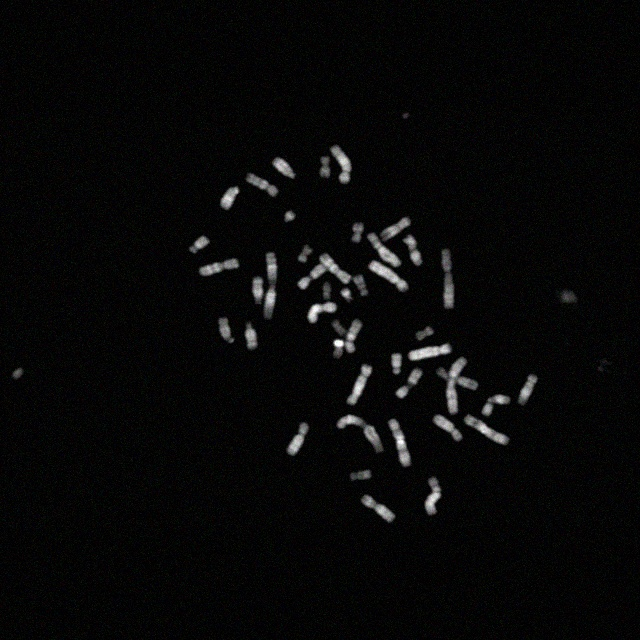chromosome: (336, 414, 384, 454), (463, 413, 509, 445), (368, 260, 408, 294), (388, 418, 412, 468), (447, 358, 468, 414), (368, 233, 402, 267), (296, 259, 334, 289), (346, 364, 372, 406), (360, 493, 396, 522), (264, 252, 278, 320), (438, 366, 478, 389), (330, 143, 352, 184), (320, 254, 350, 284), (432, 414, 462, 444), (246, 172, 278, 198), (396, 367, 422, 399), (408, 344, 452, 361), (287, 422, 309, 456), (381, 218, 411, 242), (198, 258, 238, 276), (442, 249, 454, 309), (424, 476, 442, 516), (482, 394, 510, 418), (517, 374, 537, 406), (308, 302, 337, 324), (272, 156, 296, 180), (404, 234, 422, 266), (346, 320, 364, 352), (220, 187, 240, 211), (218, 316, 234, 344), (244, 320, 258, 350), (252, 275, 264, 307), (190, 236, 210, 254), (352, 275, 368, 297), (351, 222, 365, 244), (297, 244, 313, 262), (319, 156, 331, 178), (562, 289, 578, 305), (416, 326, 434, 340), (332, 340, 344, 360), (350, 470, 370, 482), (332, 320, 346, 336), (392, 353, 402, 375), (341, 288, 354, 302), (322, 280, 332, 298), (283, 210, 295, 224)
